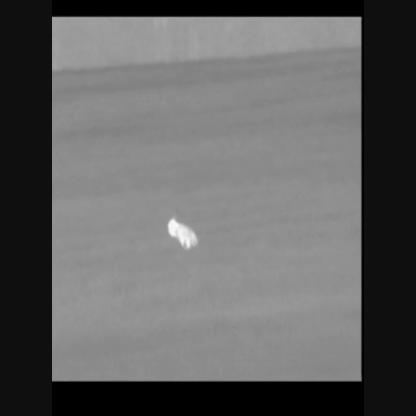rehkitze: (163, 219, 199, 253)
